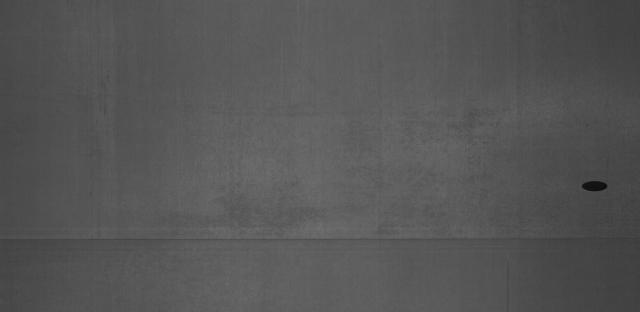punching_hole: (580, 175, 620, 199)
welding_line: (5, 225, 640, 250)
